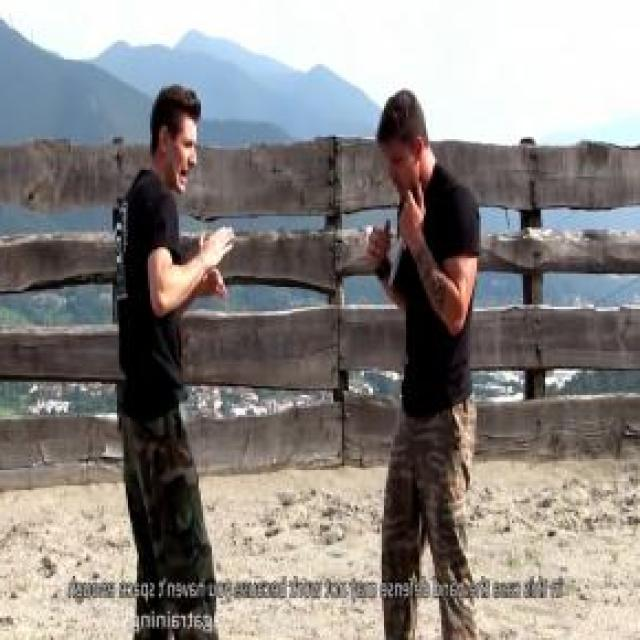knife: (386, 198, 422, 296)
